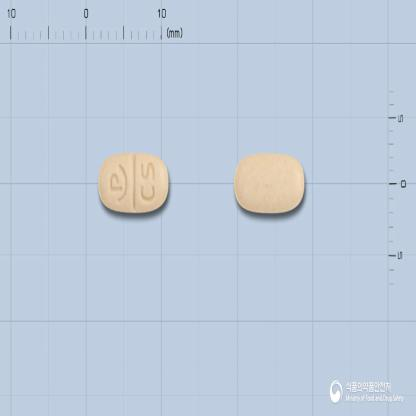pill: (96, 152, 169, 213), (233, 151, 306, 212)
